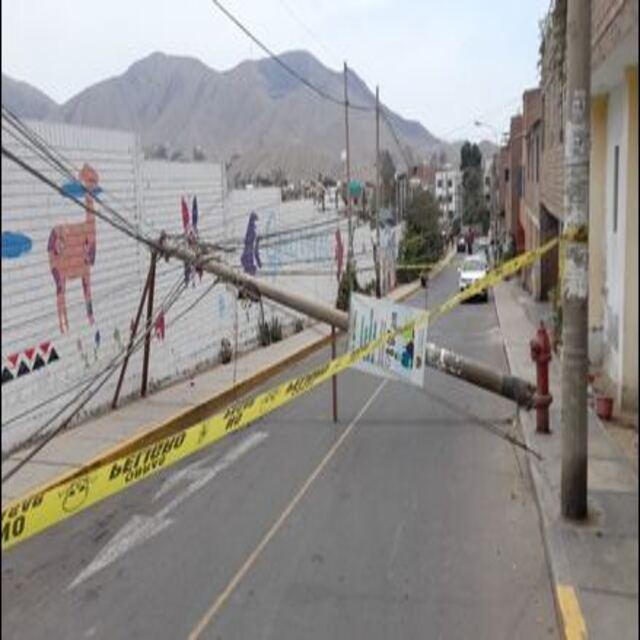Inclined Pole: (103, 226, 552, 415)
